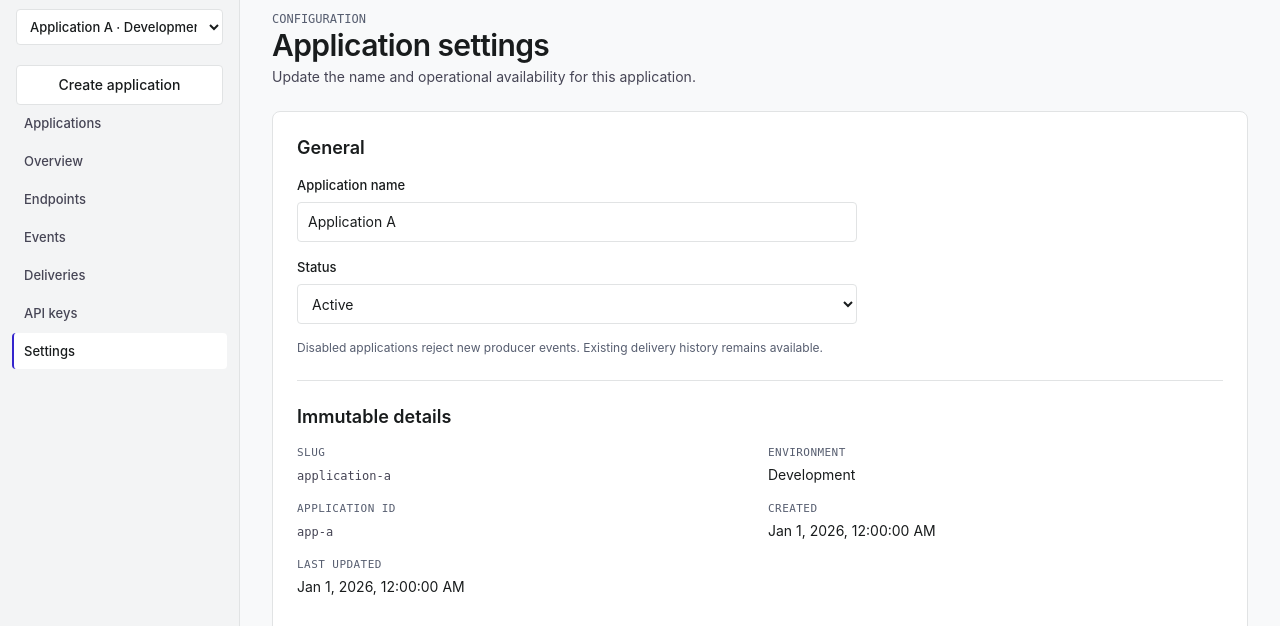
prevents synchronous duplicate PATCH submissions
The image size is (1280, 626).
Replace the text in the field labelled "Application name" with "Renamed application". click: (577, 222)
box: [297,202,857,242]
(page scrolled)
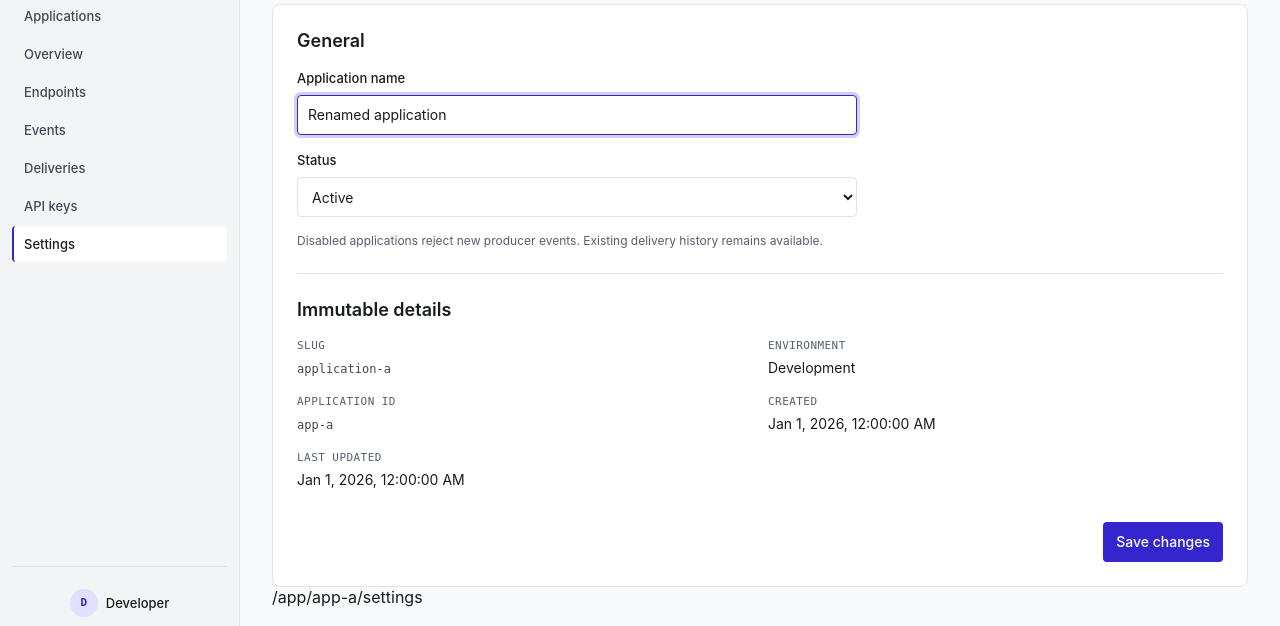
Submit the form named "Save changes"
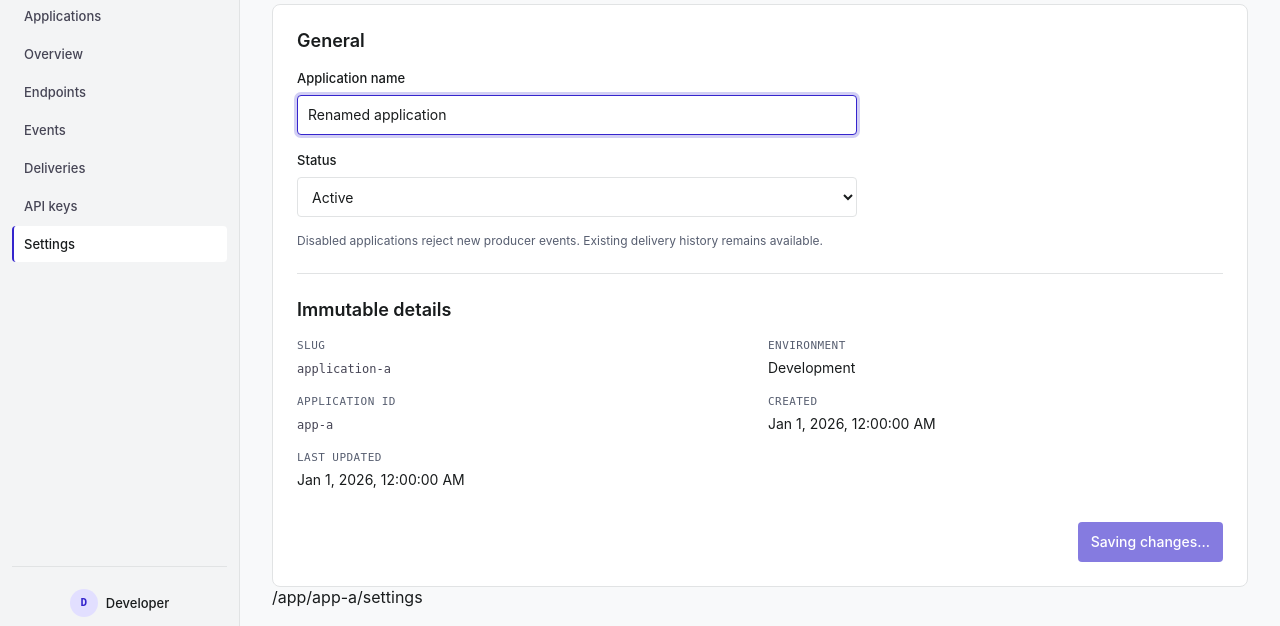
Submit the form named "Save changes"
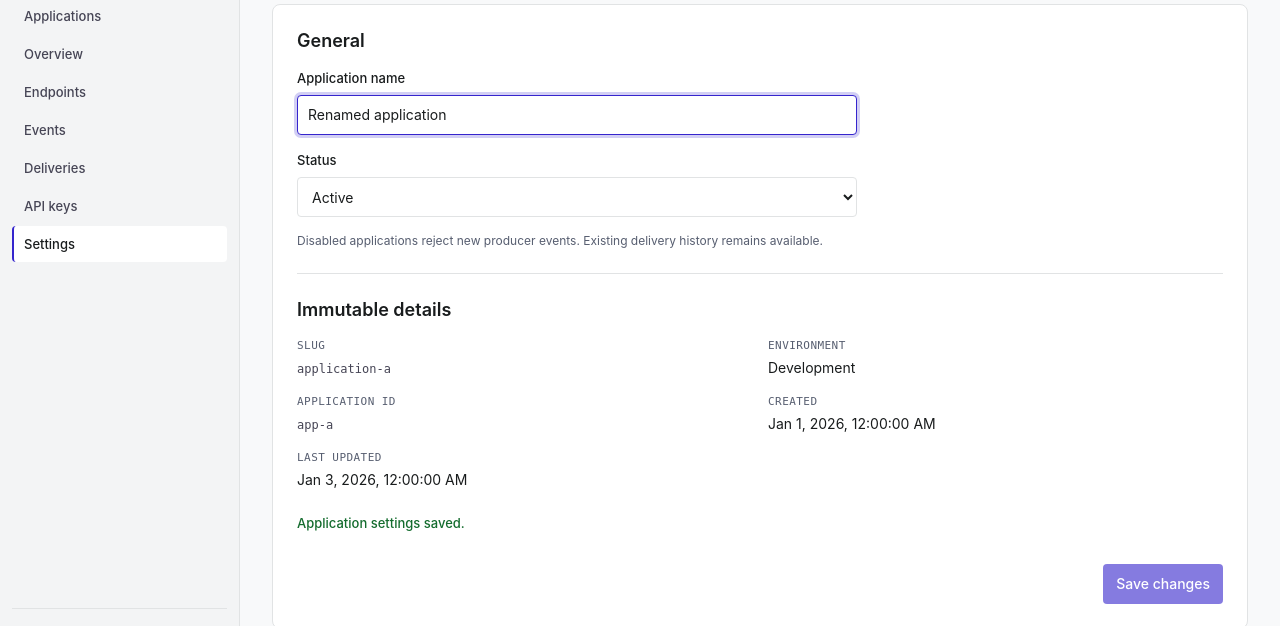
Result: the message reads "Application settings saved." at [297,515,465,531]
